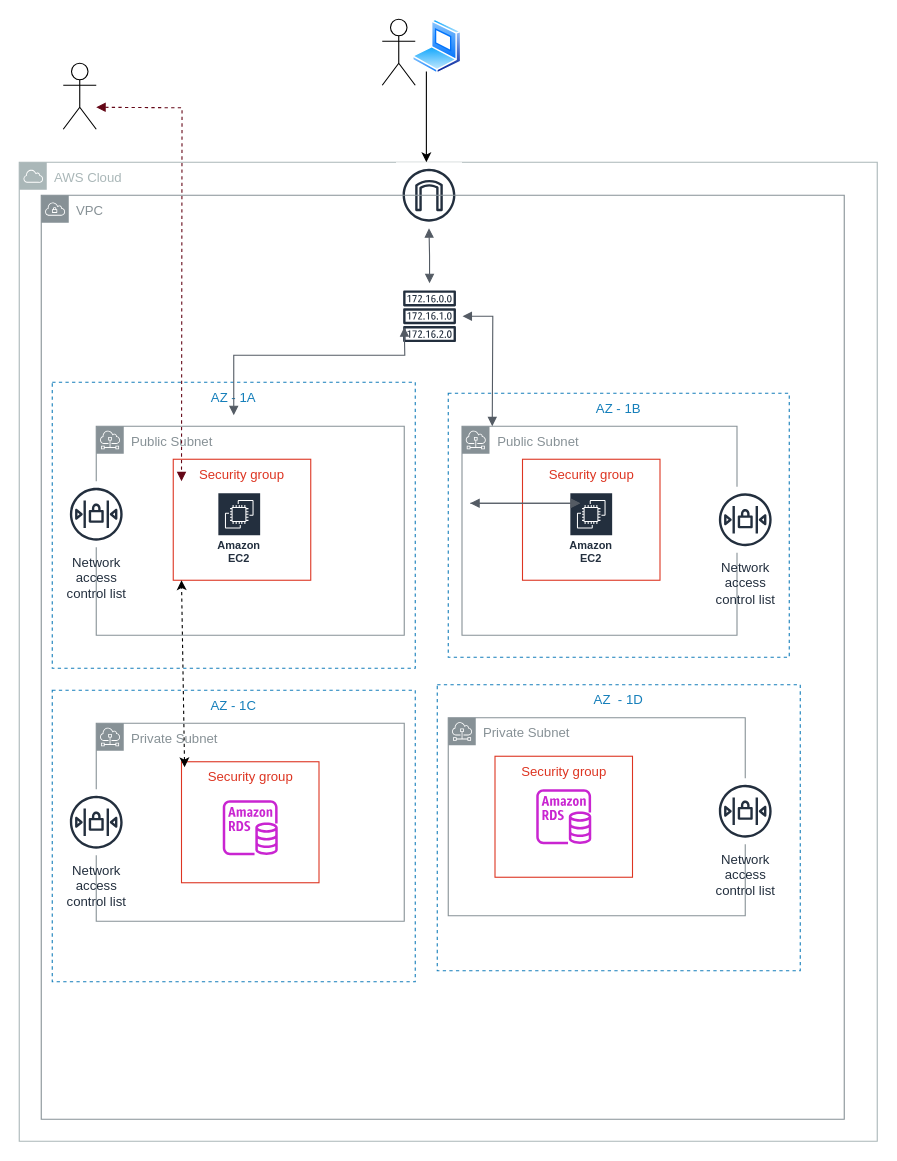
The diagram is 897 pixels wide and 1161 high, and some of its shapes have lost their labels. Here are the shapes that lost their labels. From the top down, the centre of each, then its label:
At (x=398, y=51): "Actor".
At (x=79, y=95): "Bastion Host".
At (x=428, y=194): "Internet gateway".
At (x=429, y=315): "Route table".
